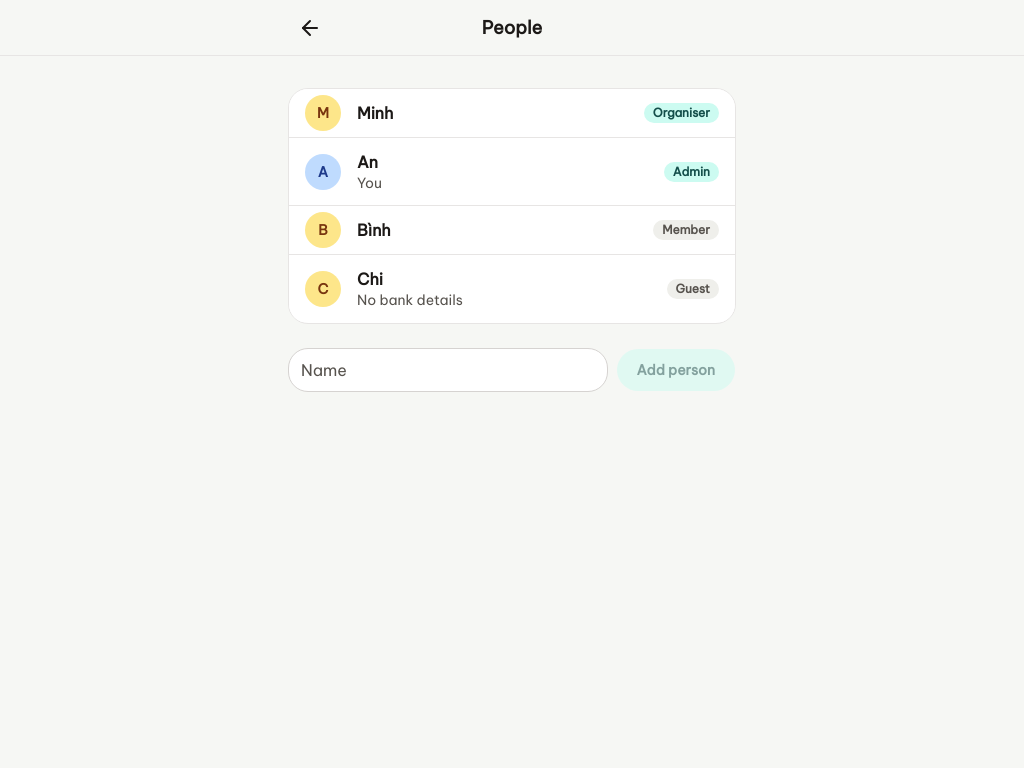
Test: People › Remove is offered on a signed-in member who is not an admin
This screenshot has width=1024, height=768.
expect the text "Member" is shown: met, box x1=653 y1=220 x2=719 y2=240
What coordinates should you click on to do the following:
click the button with aria-label "Bình,"
I would click on:
 (374, 230)
Its box is x1=341 y1=206 x2=735 y2=254.
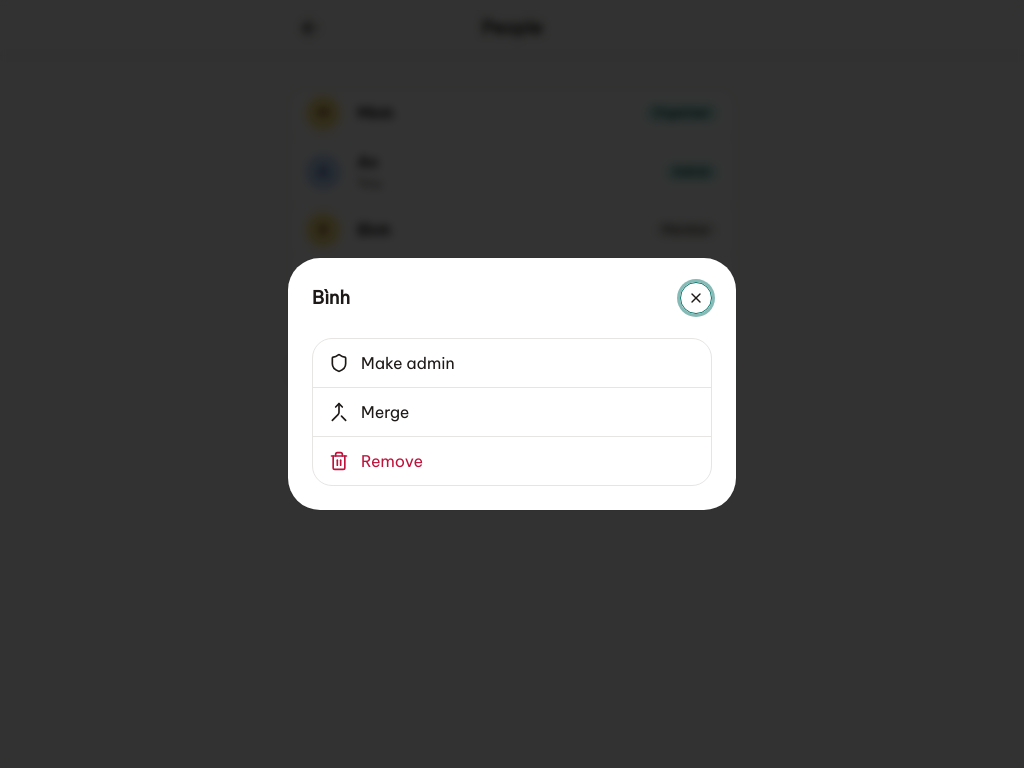
expect the button "Merge" is shown: met, box x1=313 y1=388 x2=711 y2=437
expect the button "Remove" is shown: met, box x1=313 y1=437 x2=711 y2=485
